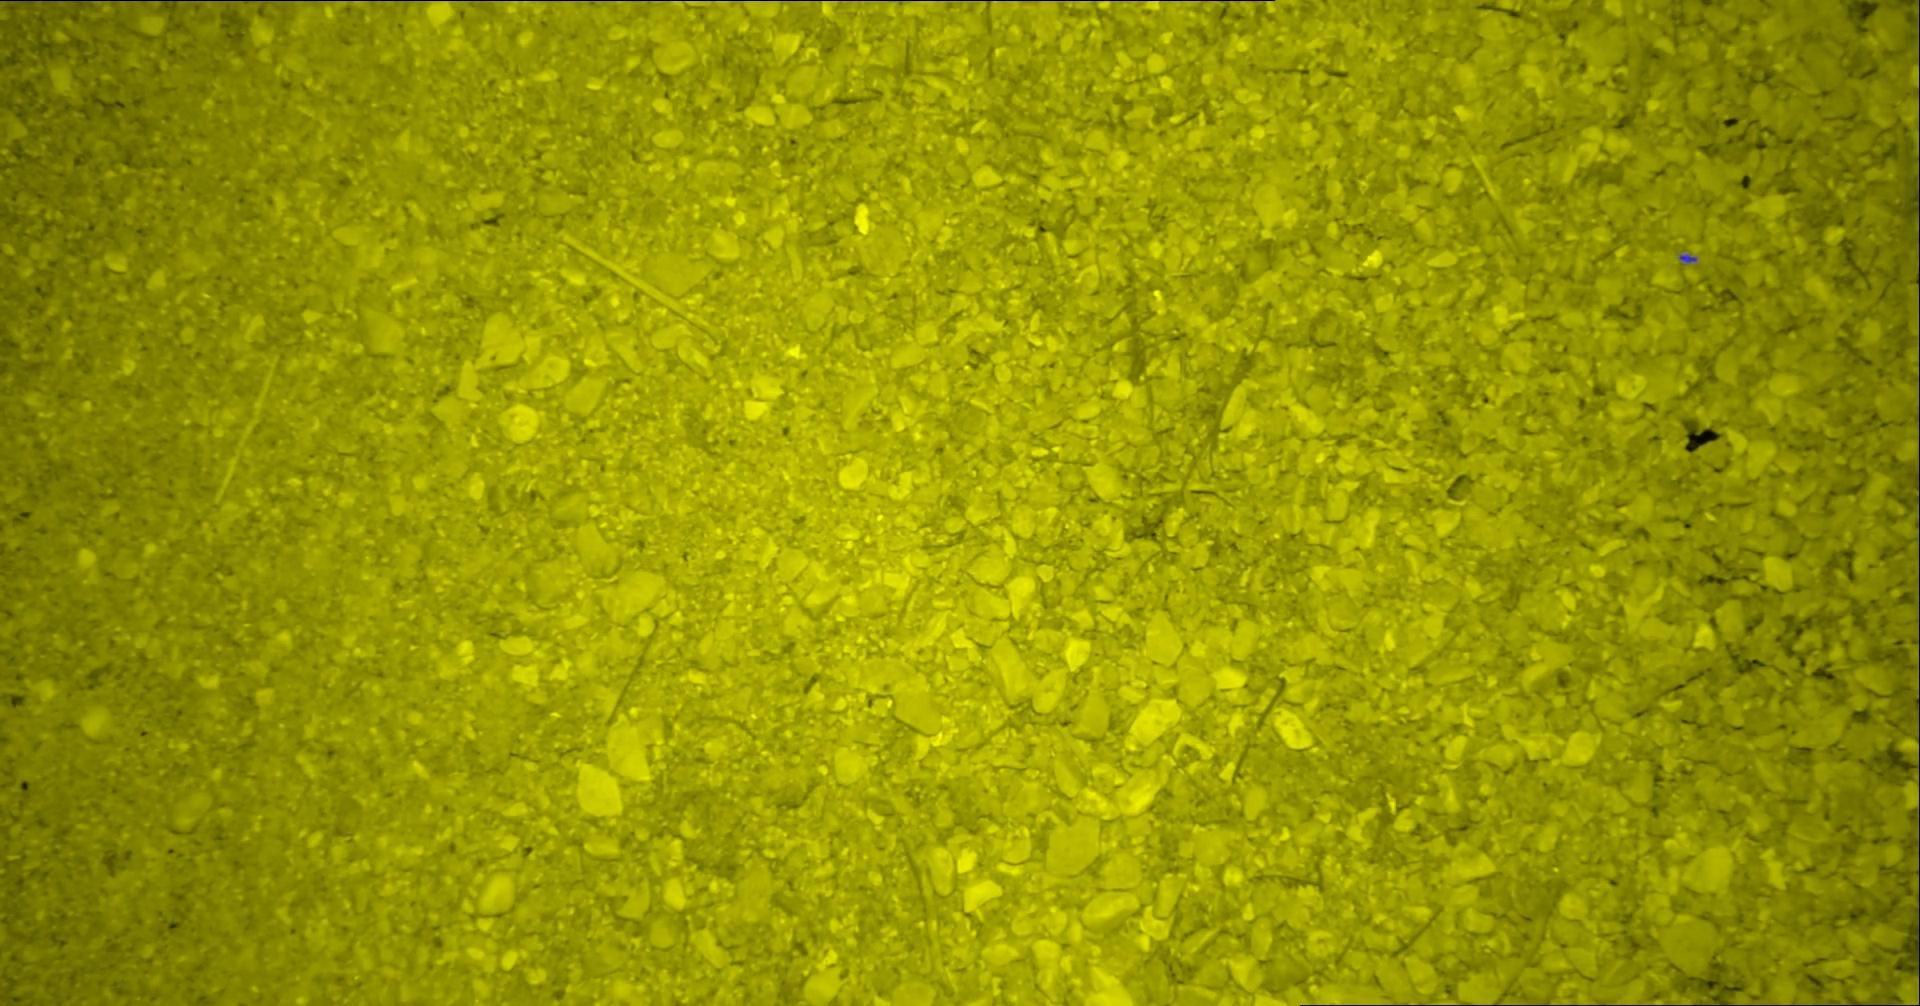ant: (1680, 254, 1698, 262), (43, 0, 93, 1)
